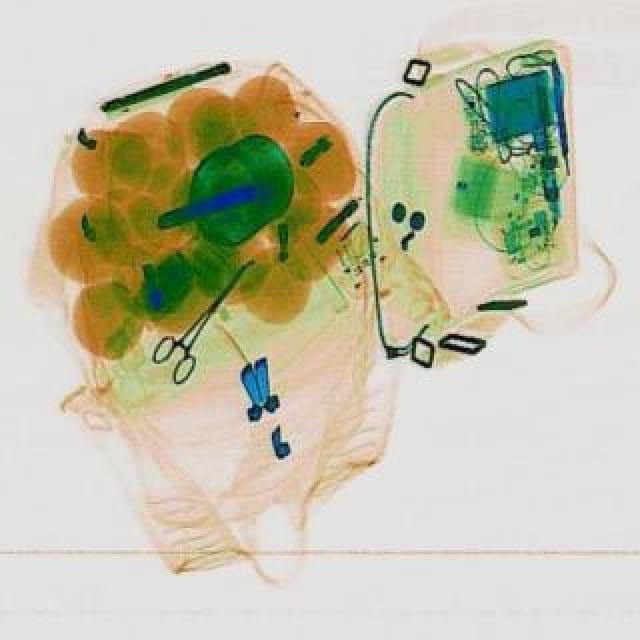pliers: (144, 250, 276, 392)
